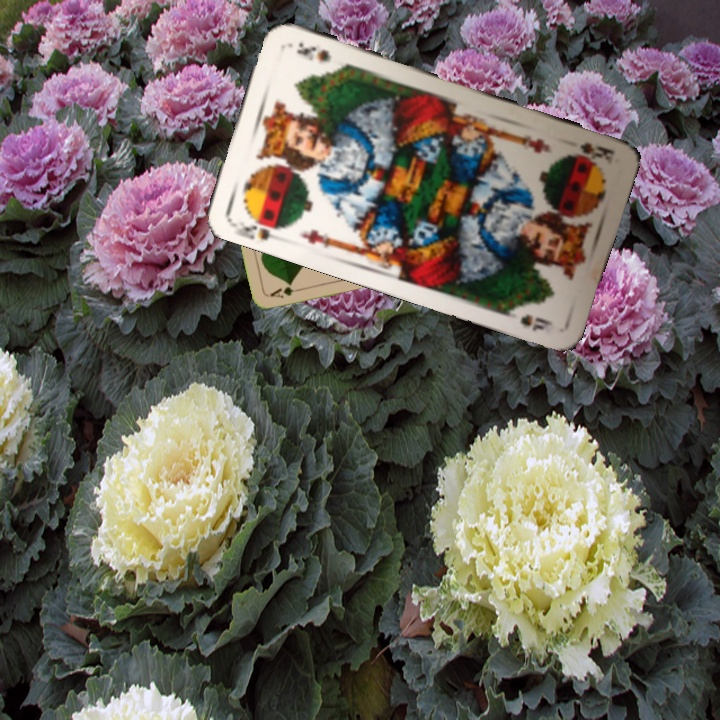GA: (266, 282, 306, 301)
SK: (224, 210, 285, 243), (576, 138, 617, 164)
